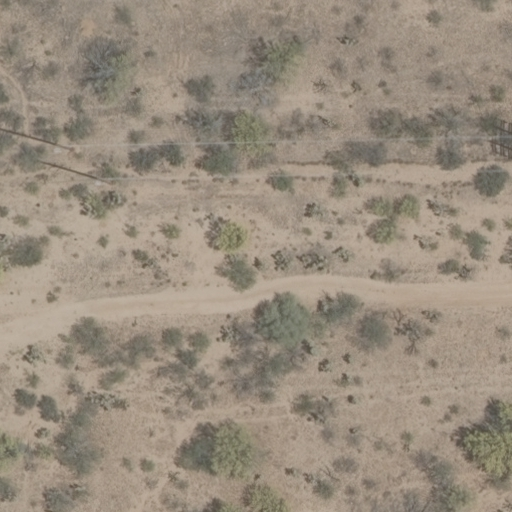DT: (46, 139, 79, 157), (90, 172, 117, 188)
